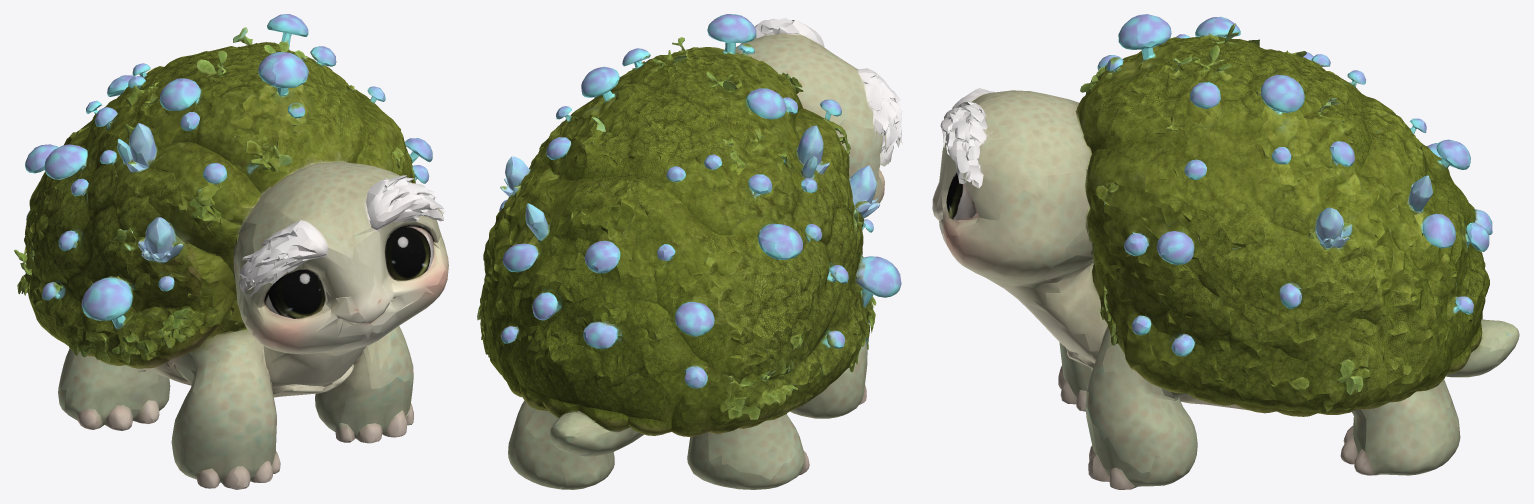
File: char-moss.glb
The picture shows the model from 3 angles, left to right: view 1: azimuth 30°, elevation 25°; view 2: azimuth 150°, elevation 25°; view 3: azimuth 270°, elevation 25°; orthographic projection. The views are drawn at different scales.
Bounding box in the file's own units: 1.39 × 1.48 × 1.9.
Materials: 1 (1 with a texture image).
